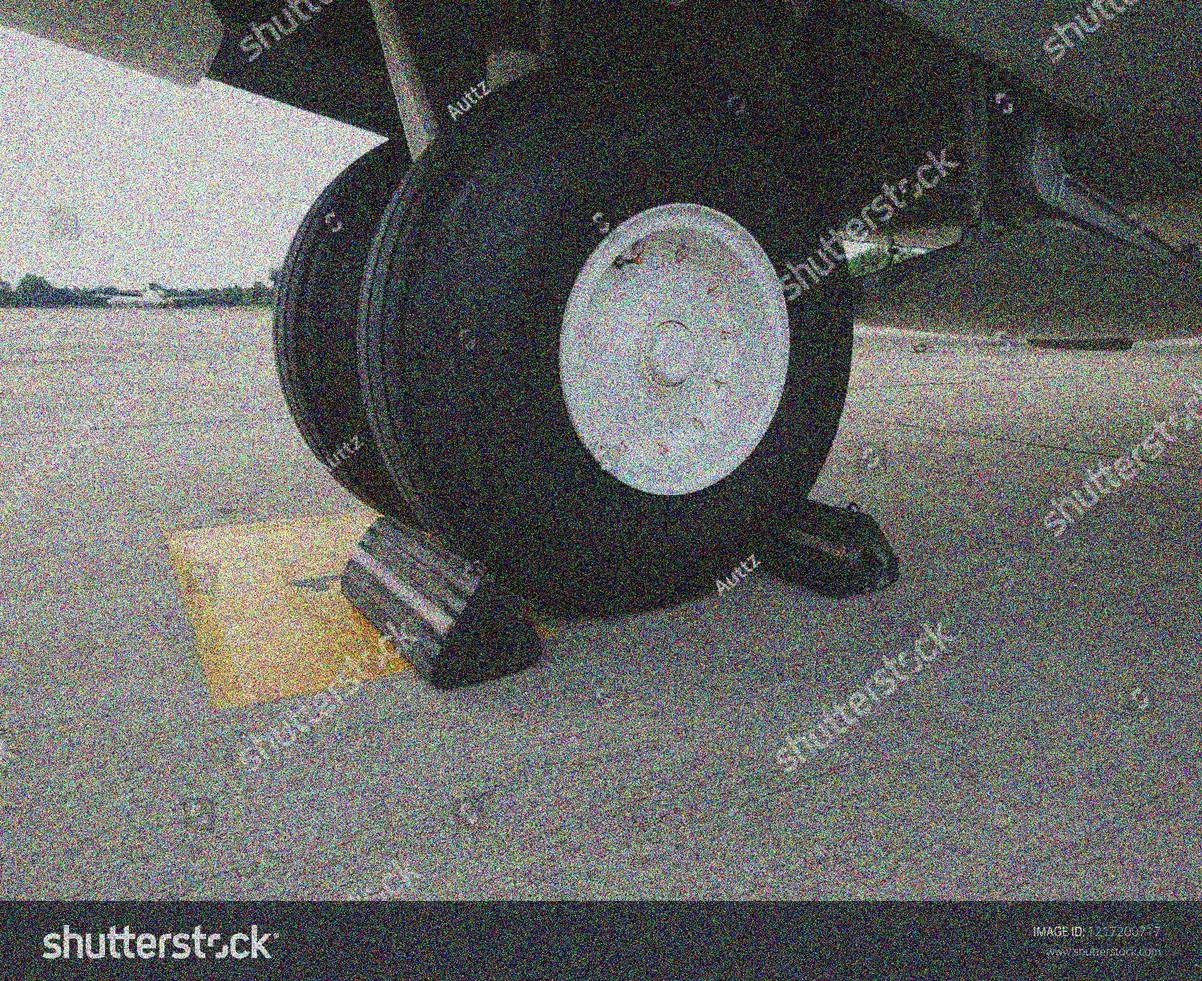chock: (340, 513, 541, 690), (748, 486, 902, 601)
wheel: (378, 58, 829, 615), (268, 134, 433, 524)
